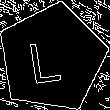L_N: (33, 31, 71, 85)
